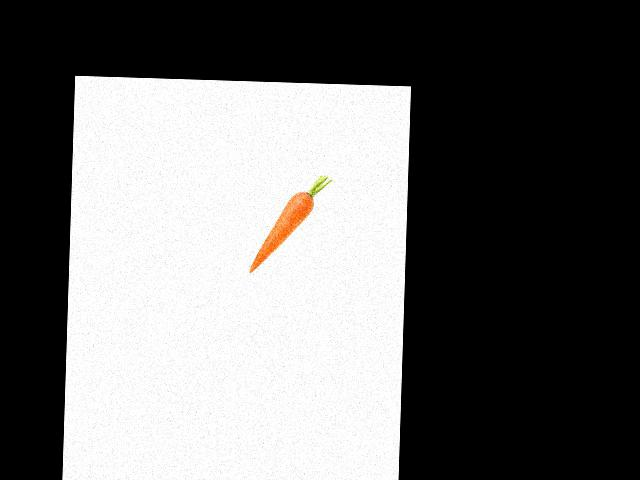carrot: (247, 188, 314, 277)
